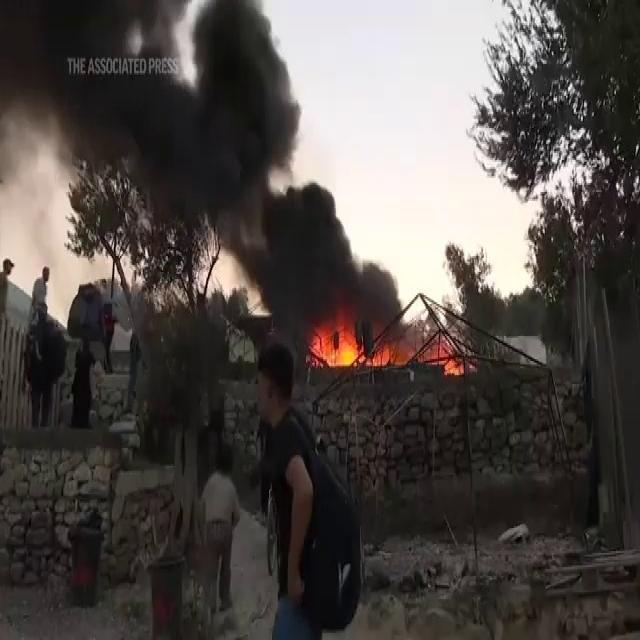Fire: (306, 314, 404, 376), (430, 344, 472, 386)
Smoke: (0, 0, 399, 339)
